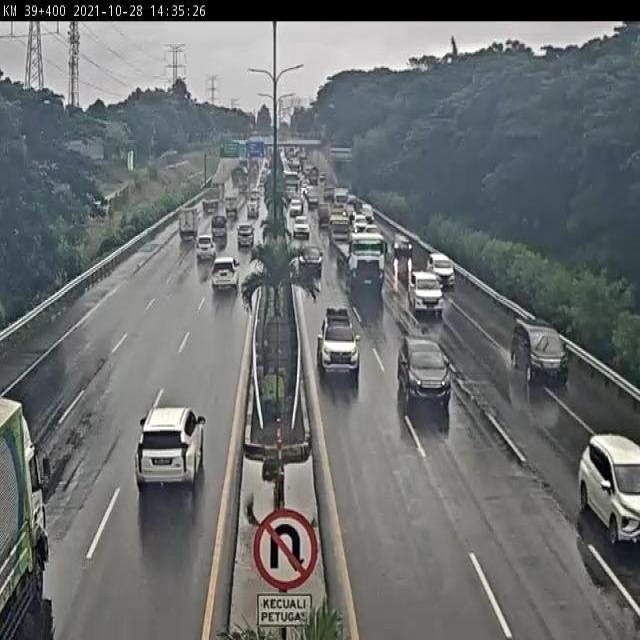big truck: (0, 389, 67, 640), (338, 224, 388, 295)
car: (117, 395, 212, 512), (555, 427, 640, 548), (392, 320, 458, 413), (506, 310, 580, 386), (316, 298, 366, 386), (403, 257, 435, 316), (211, 248, 243, 300), (422, 245, 457, 287), (298, 232, 327, 272), (233, 223, 260, 260), (192, 229, 215, 271), (389, 227, 418, 260)
small truck: (172, 200, 206, 249)
